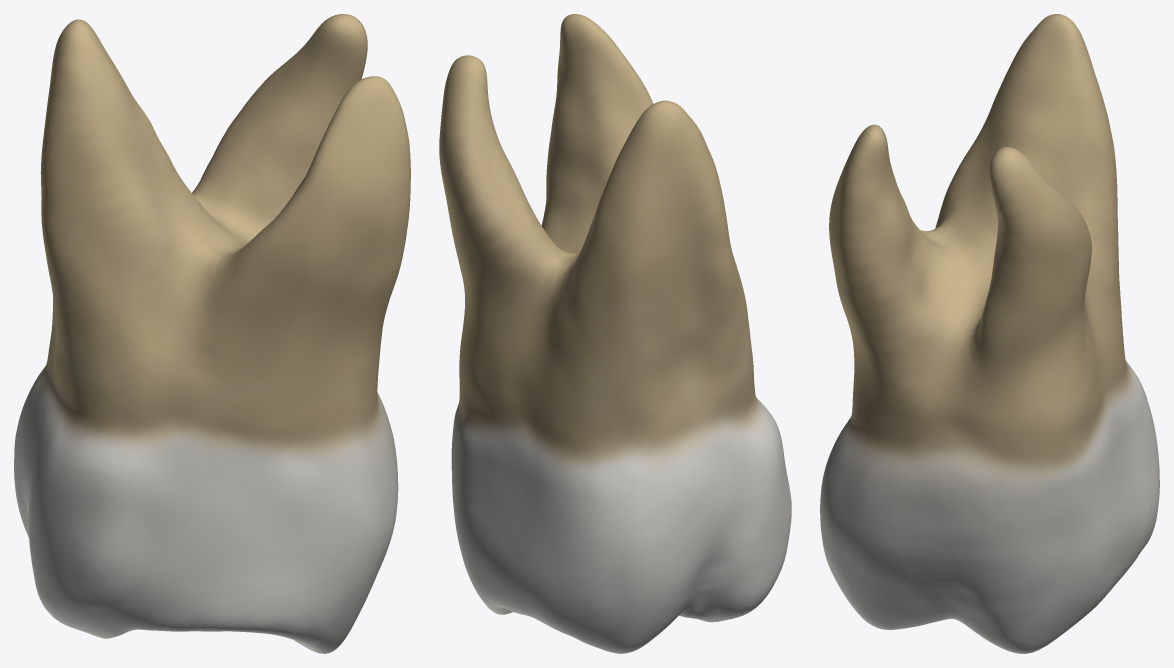
Rendered from maxillary_first_molar.glb.
The picture shows the model from 3 angles, left to right: view 1: azimuth 30°, elevation 25°; view 2: azimuth 150°, elevation 25°; view 3: azimuth 270°, elevation 25°; orthographic projection. The views are drawn at different scales.
Visible parts, largest first — view 1: Object_2; view 2: Object_2; view 3: Object_2.
Boxes of the visible parts, x1,y1,x2,y2 form: Object_2: (14,14,410,653); Object_2: (439,14,791,653); Object_2: (820,14,1159,653).
Size of the model in its own units: 0.4533 by 0.7784 by 0.4332.
1 material, 1 textured.
